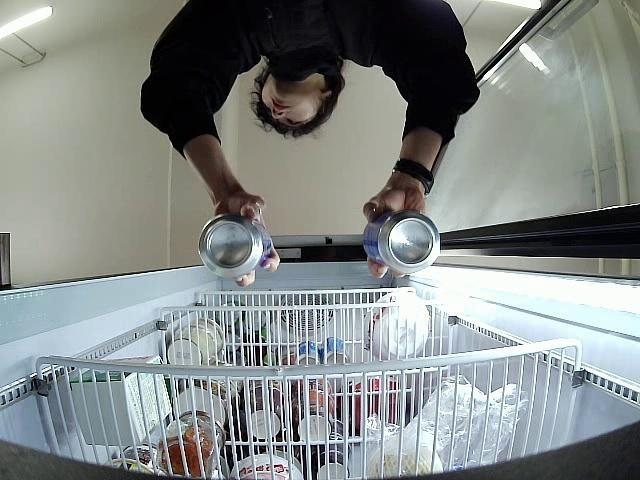13_pocariSweat: (362, 212, 440, 275), (198, 216, 273, 280)
